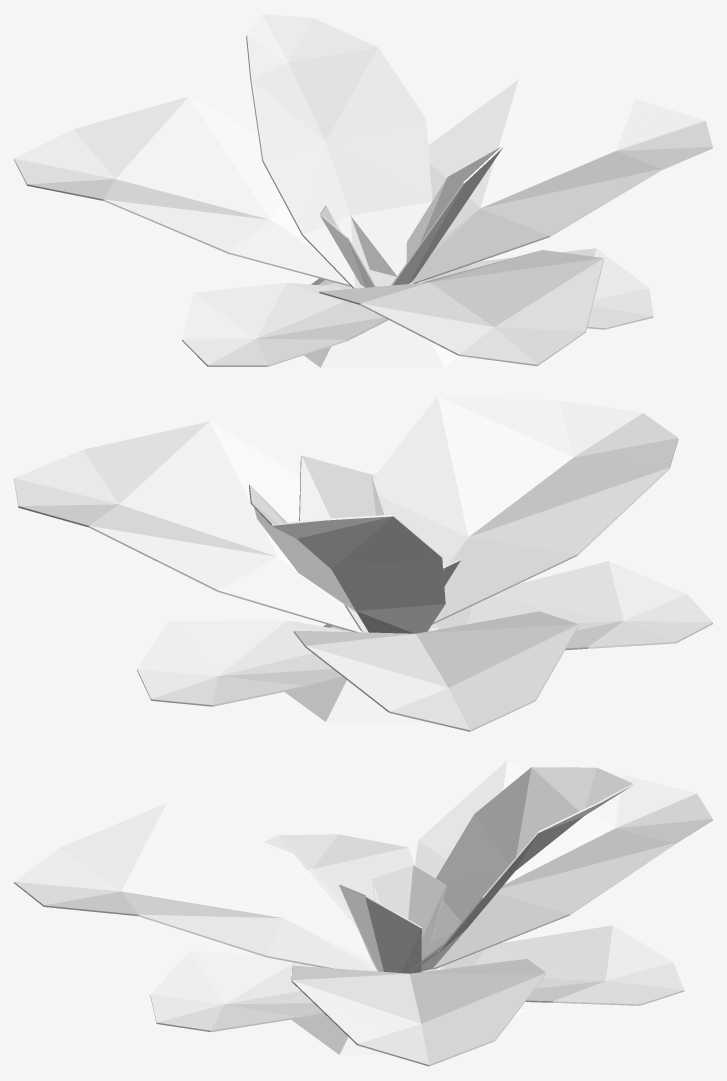
The model's file is Crop_Cabbage_STAGE_1_02.glb.
3 views of the same model, one above another, from view 1: azimuth 30°, elevation 25°; view 2: azimuth 150°, elevation 25°; view 3: azimuth 270°, elevation 25° (orthographic). The views are drawn at different scales.
Visible parts, largest first — view 1: Crop_Cabbage_STAGE_1_02; view 2: Crop_Cabbage_STAGE_1_02; view 3: Crop_Cabbage_STAGE_1_02.
Boxes of the visible parts, x1,y1,x2,y2 form: Crop_Cabbage_STAGE_1_02: (14,14,712,367); Crop_Cabbage_STAGE_1_02: (14,396,712,731); Crop_Cabbage_STAGE_1_02: (14,760,712,1066).
Size of the model in its own units: 0.4024 by 0.1486 by 0.4197.
Materials: 1 (1 with a texture image).
